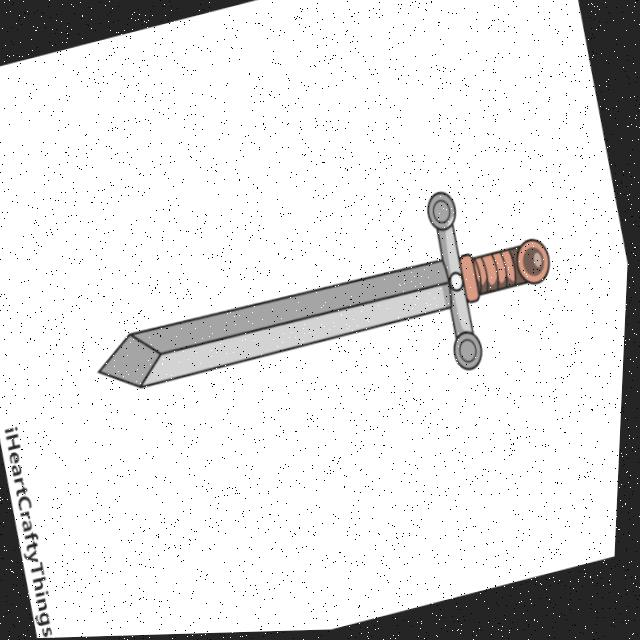knife: (69, 174, 579, 468)
